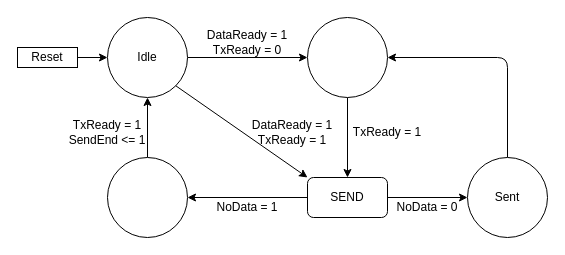
This 565x255 diagram has some shape labels left out. The centre of each missing label's shape, as x and y in pixels:
"Wait For End" belongs at (147,197).
"Waiting" belongs at (347,57).
